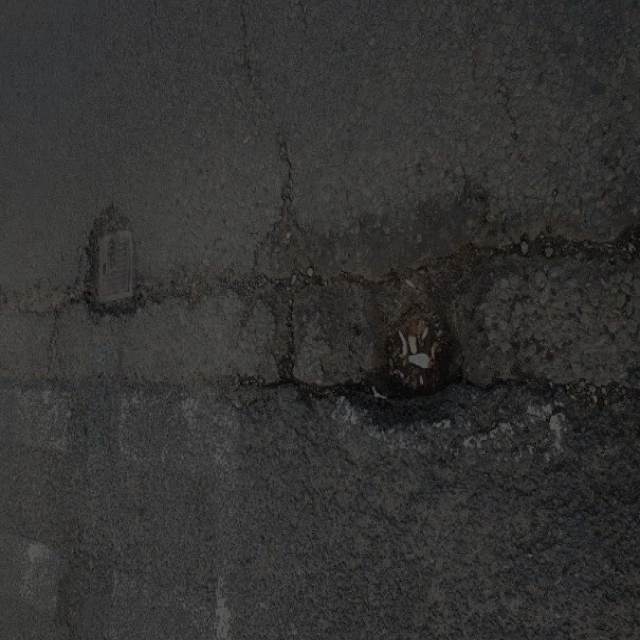Pothole: (259, 232, 534, 432)
